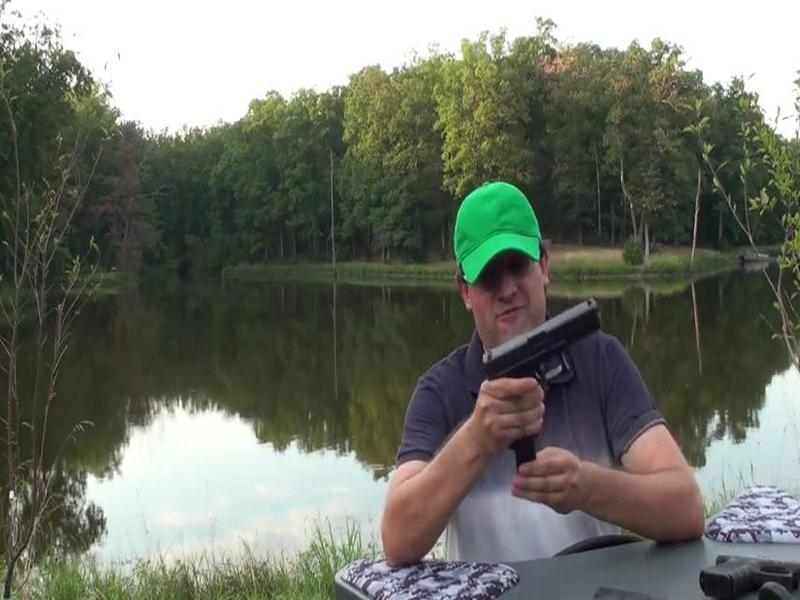Pistola: (463, 299, 615, 395)
